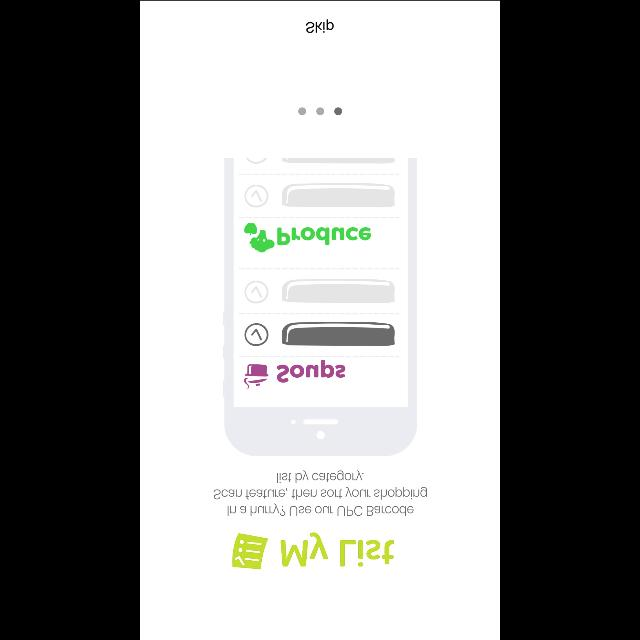icon: (232, 533, 268, 569)
image: (222, 158, 418, 456)
pageindicator: (298, 107, 342, 115)
text: (213, 470, 427, 516), (281, 532, 394, 566), (306, 19, 334, 33)
